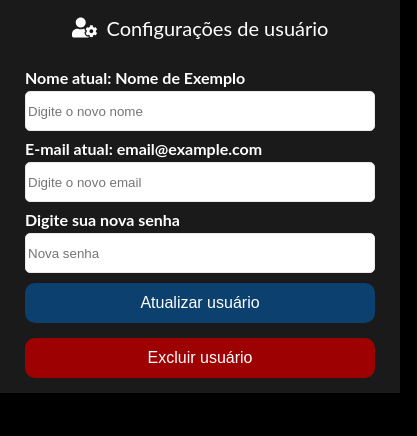
Test case: ConfigUserBox › displays error message if no input is provided for updating user
The image size is (417, 436).
// Simulando clique no botão de envio do formulário sem preencher nenhum campo
Click the button "Atualizar usuário" at (200, 303), box [25,283,375,323]
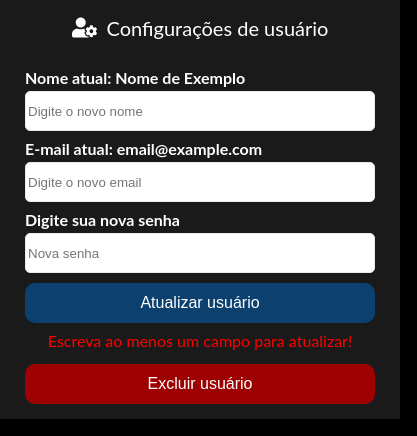
Result: the text "Escreva ao menos um campo para atualizar!" is shown at [25,333,375,349]
